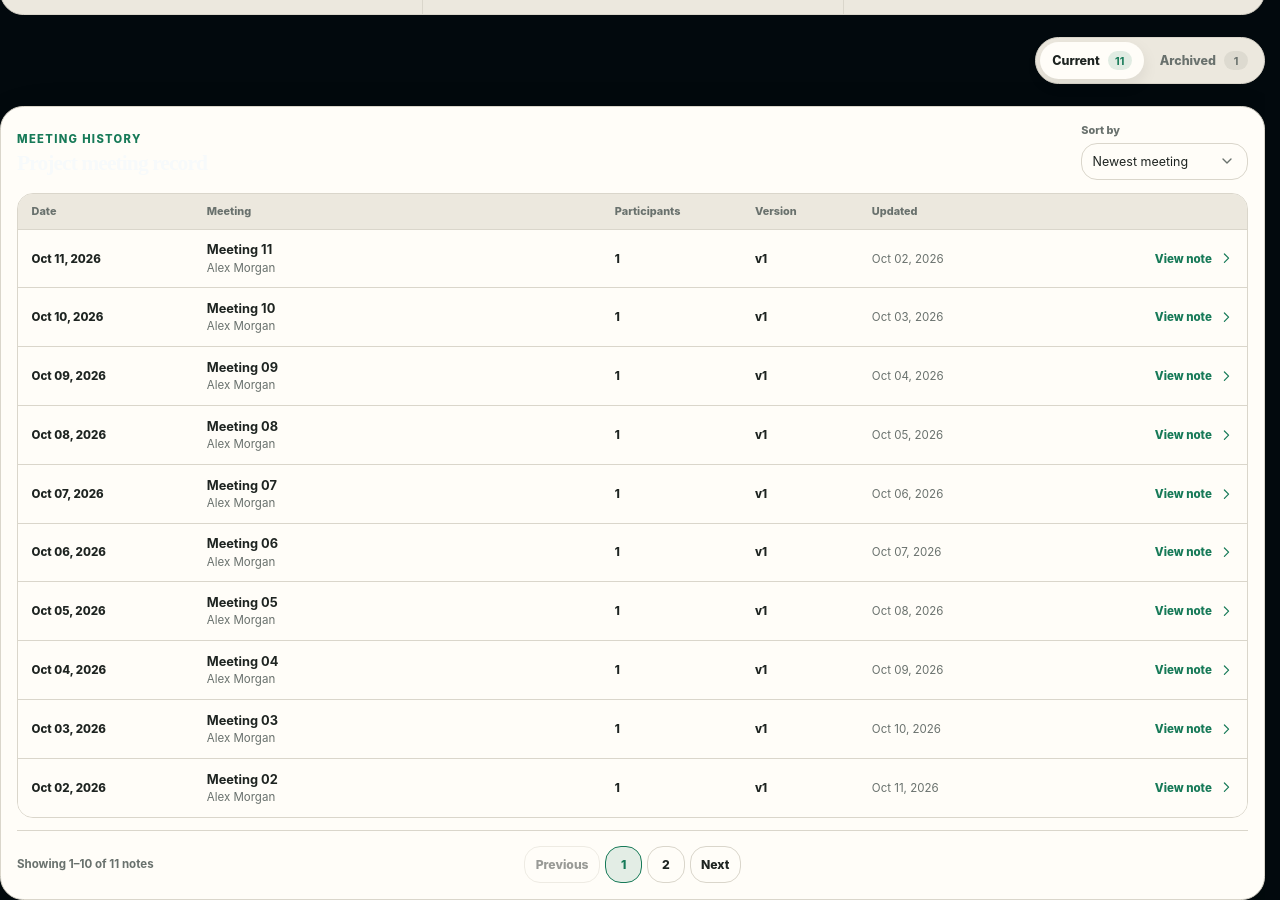
Test: Meeting Notes sorting and pagination › resets pagination when switching Current/Archived, without changing project KPIs
(page scrolled)
Expected: the text "Meeting 11" is shown, [207,242,272,258]
Click the button named "Page 2": (666, 864) [647,846,685,883]
(page scrolled)
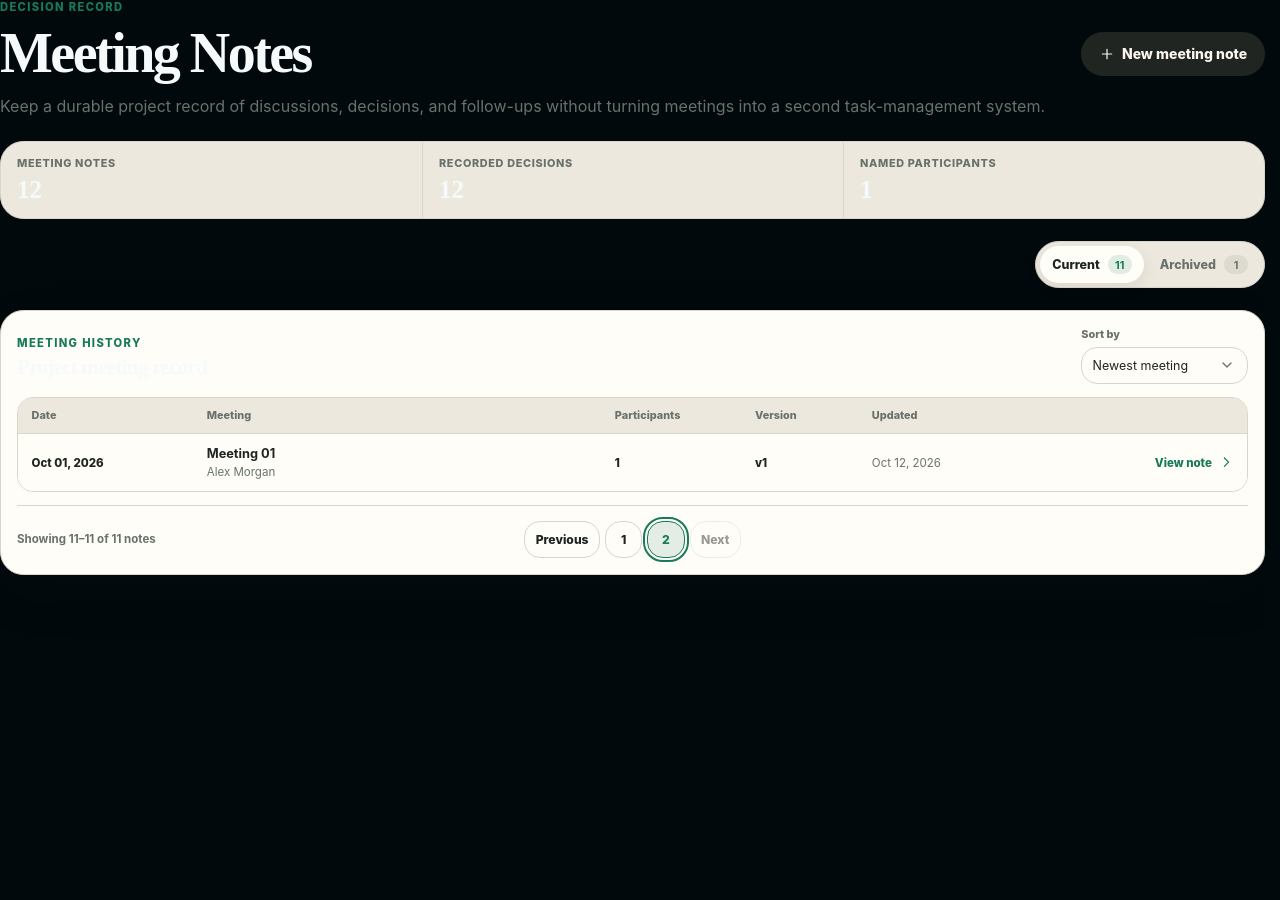
Expected: the text "Meeting 01" is shown, [207,446,275,462]
Click the tab "Archived 1": (1204, 264) [1148,246,1260,283]
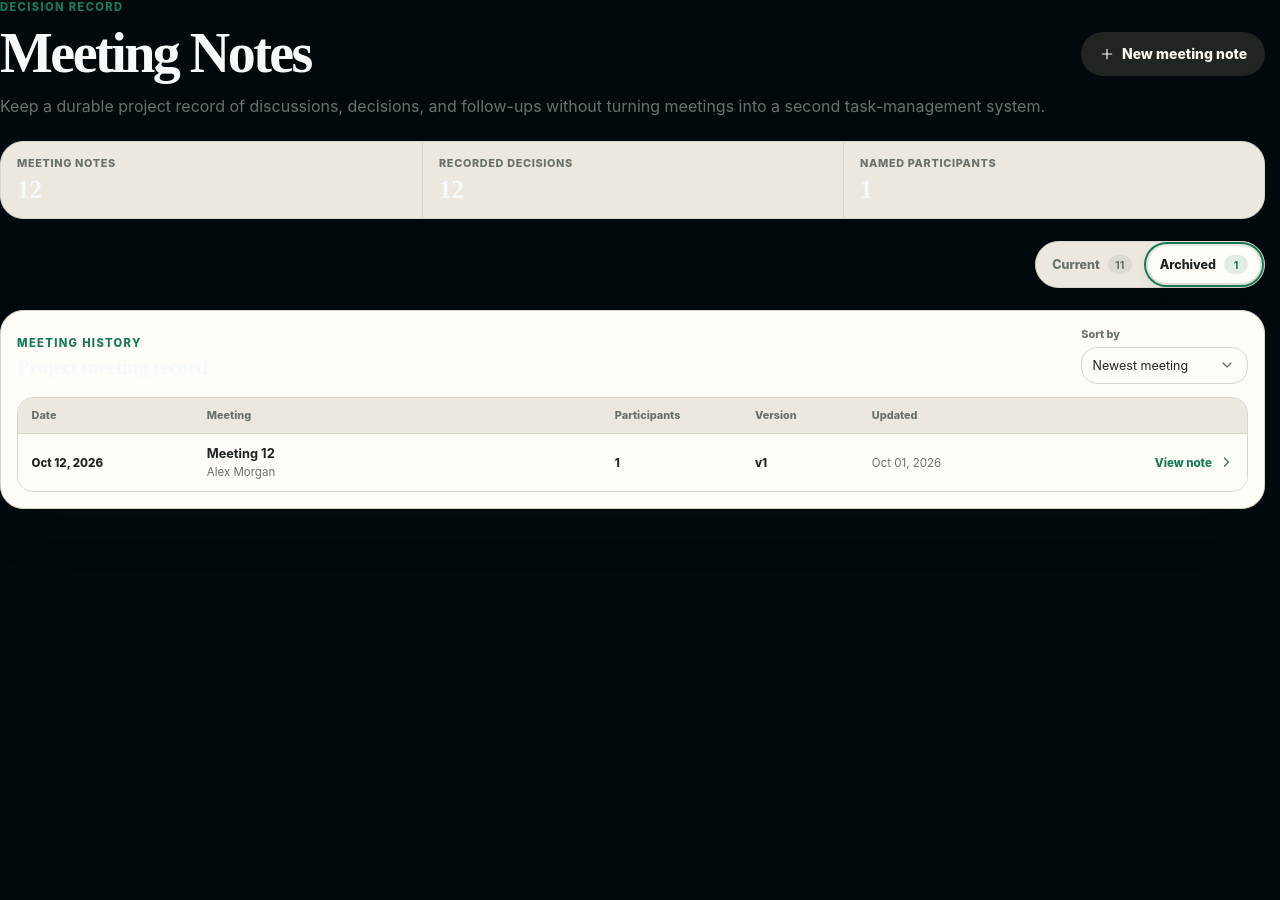
Expected: the dropdown labelled "Sort by" shows "Newest meeting", [1081,346,1248,384]
Expected: the text "Meeting 12" is shown, [207,446,275,462]
Click the tab "Current 11": (1092, 264) [1040,246,1144,283]
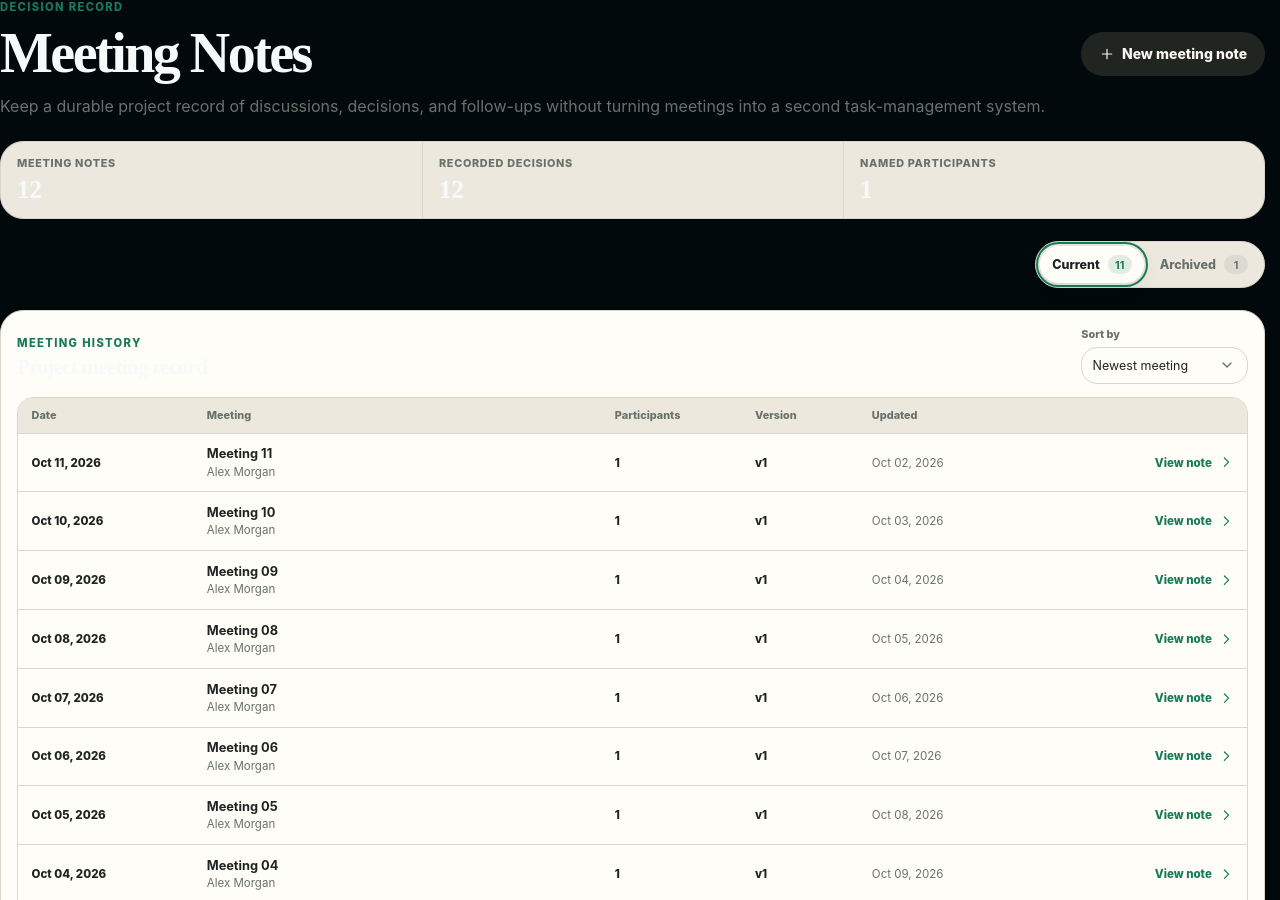
Expected: the link "Meeting 01" is not shown
Expected: the text "Meeting 11" is shown, [207,446,272,462]
